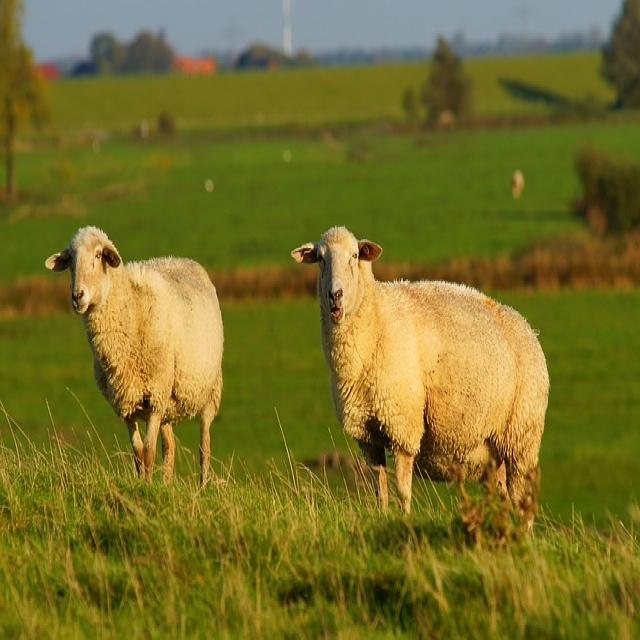goat: (290, 227, 551, 533), (43, 227, 225, 485)
